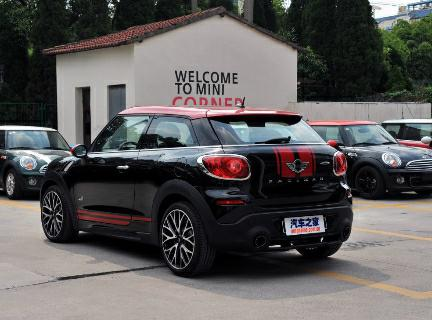MINI-JCWPACEMAN: (27, 99, 362, 279)
